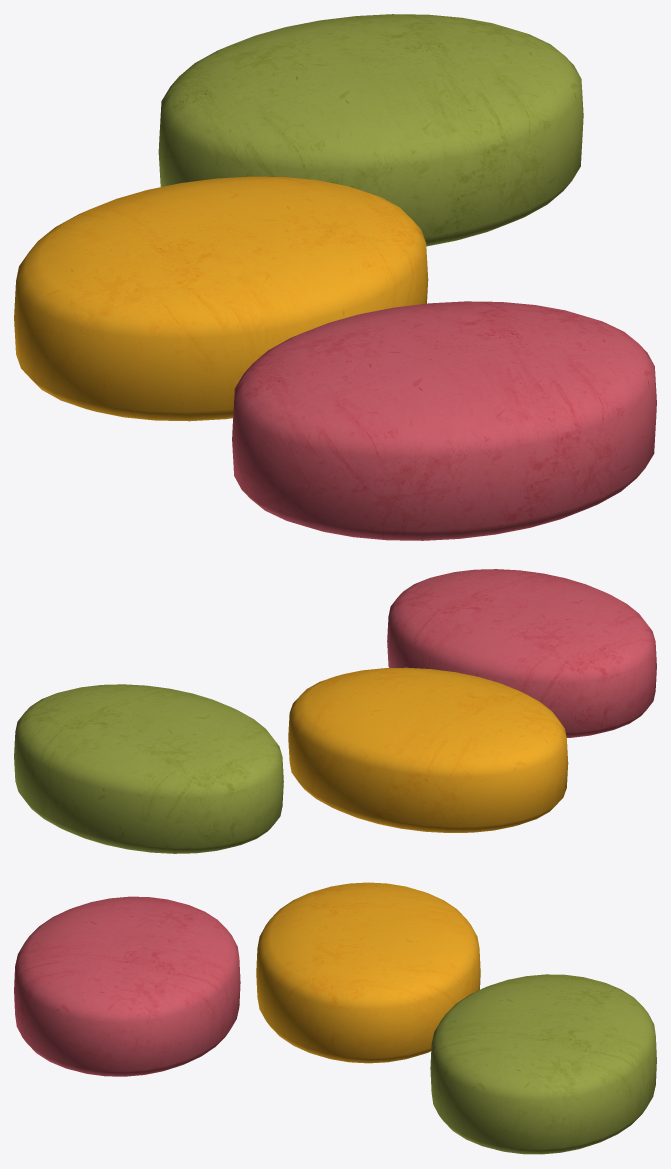
3 renders of one model, top to bottom at view 1: azimuth 30°, elevation 25°; view 2: azimuth 150°, elevation 25°; view 3: azimuth 270°, elevation 25°, orthographic. The views are drawn at different scales.
Visible parts, largest first — view 1: Candy3, Candy1, Candy2; view 2: Candy1, Candy2, Candy3; view 3: Candy2, Candy3, Candy1.
Boxes of the visible parts, x1,y1,x2,y2 form: Candy3: [232, 301, 656, 540]; Candy1: [14, 176, 428, 421]; Candy2: [158, 14, 583, 246]; Candy1: [288, 667, 568, 832]; Candy2: [14, 684, 283, 853]; Candy3: [387, 569, 656, 737]; Candy2: [430, 974, 656, 1154]; Candy3: [14, 896, 240, 1076]; Candy1: [256, 882, 480, 1063].
Size of the model in its own units: 0.0798 by 0.0168 by 0.1013.
Materials: 3 (3 with a texture image).
